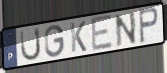E: (90, 13, 114, 54)
G: (44, 24, 65, 59)
K: (69, 20, 88, 54)
N: (113, 10, 138, 49)
P: (137, 6, 160, 45)
U: (19, 26, 42, 63)
